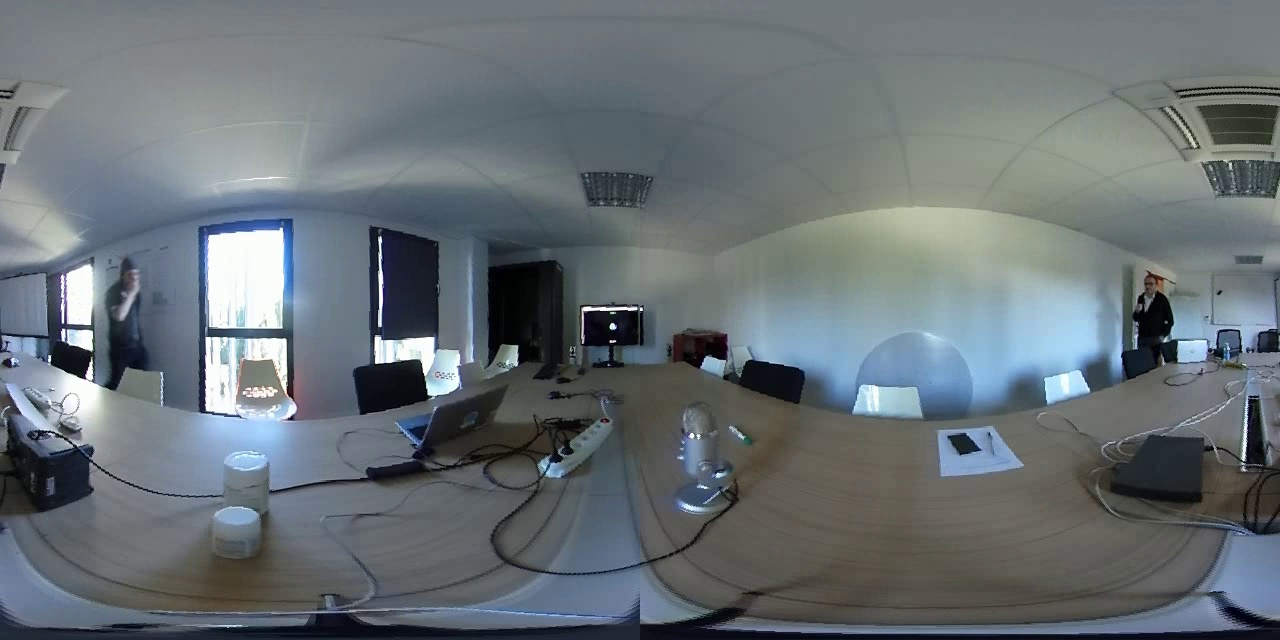person: (95, 252, 161, 371), (1122, 273, 1191, 368)
